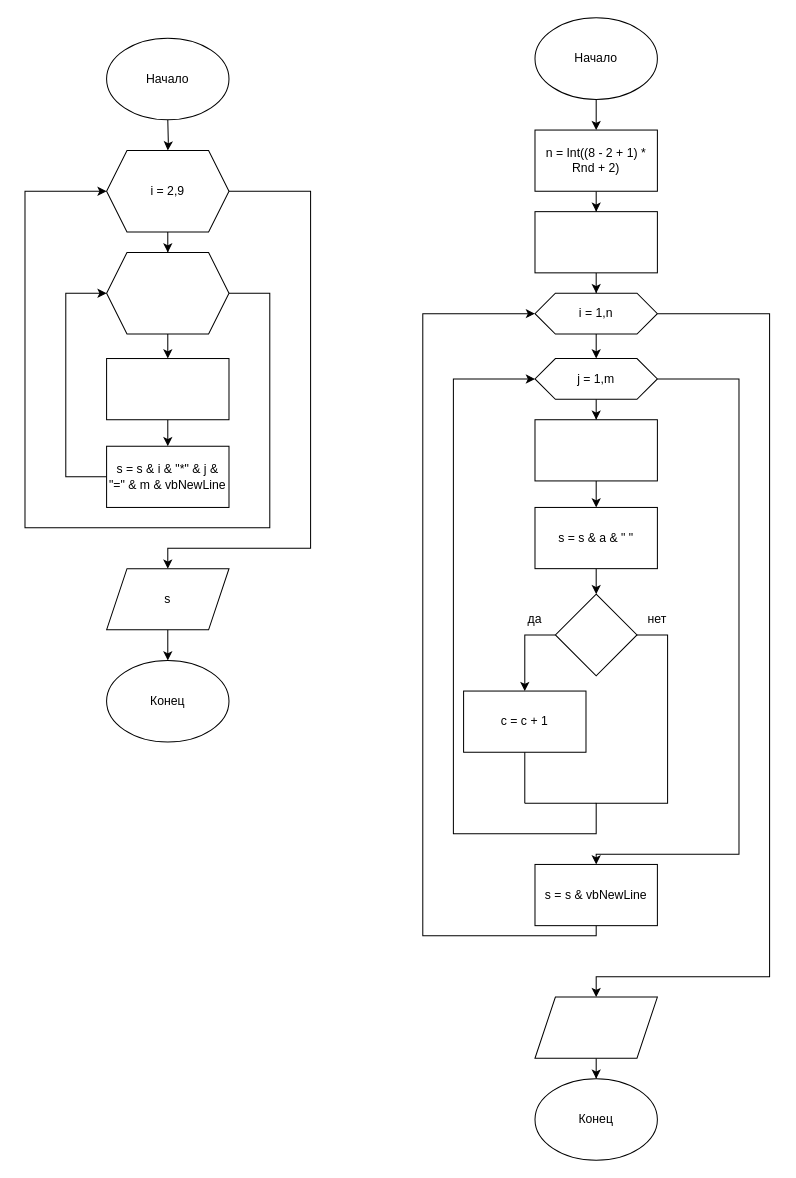
The diagram is 796 pixels wide and 1178 high, and some of its shapes have lost their labels. Here are the shapes that lost their labels. From the top down, the centre of each, then its label:
At (595,242): "m = Int((8 - 2 + 1) * Rnd + 2)".
At (167,292): "j = 2,9".
At (167,389): "m = i * j".
At (595,450): "a = Int((100 - 0 + 1) * Rnd + 0)".
At (595,634): "a = 0".
At (595,1027): "s, c".
